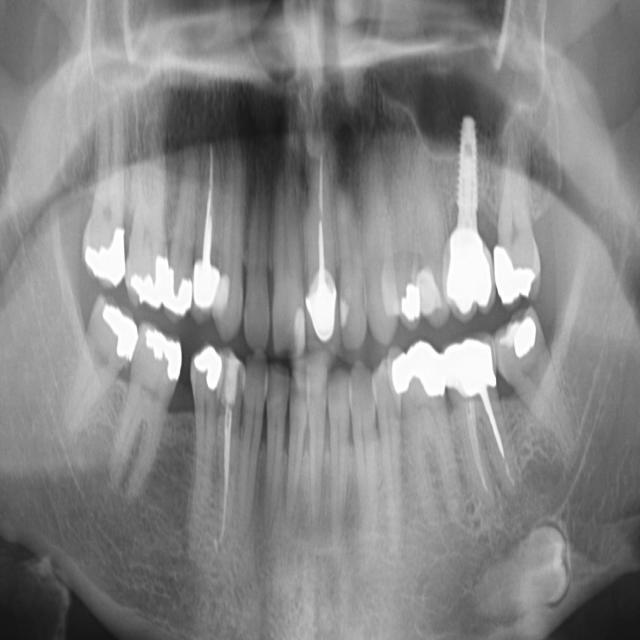dolgu: (78, 219, 124, 287), (490, 232, 534, 294), (95, 295, 135, 362), (126, 254, 165, 316), (185, 342, 221, 398), (497, 314, 542, 358), (141, 329, 179, 377), (157, 268, 191, 320), (414, 266, 441, 318), (220, 355, 244, 403), (396, 272, 422, 316), (290, 307, 306, 352), (340, 300, 352, 336)
implant: (453, 113, 496, 319)
kanal-tedavisi: (460, 388, 522, 492), (209, 400, 251, 550), (186, 128, 222, 278), (310, 153, 334, 290)
kaplama: (390, 346, 444, 398), (444, 343, 492, 389), (305, 282, 337, 339), (194, 262, 220, 306)
